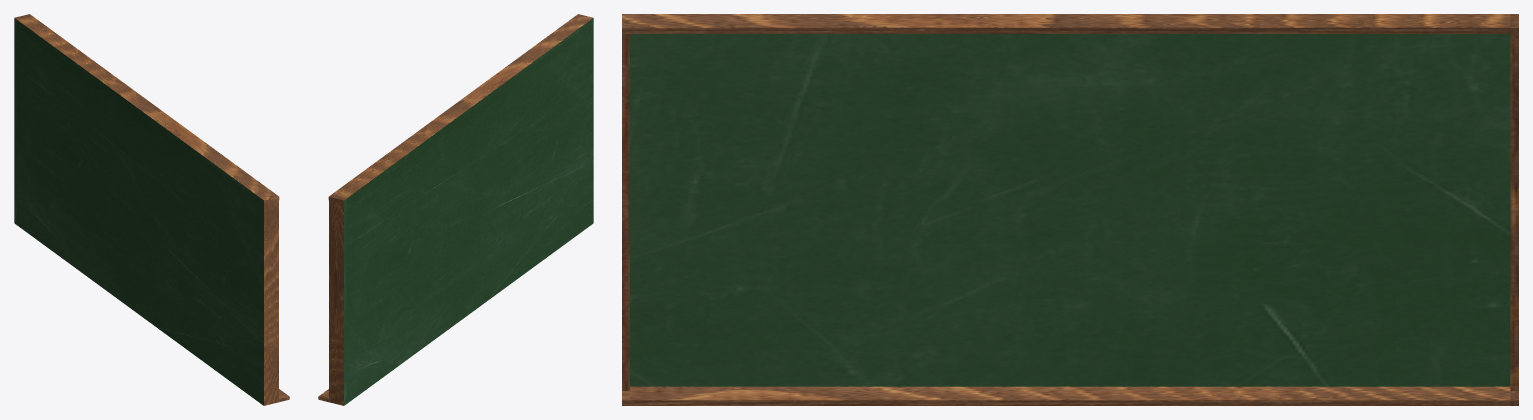
The model's file is ChalkBoard.glb.
3 renders of one model, left to right at view 1: azimuth 30°, elevation 25°; view 2: azimuth 150°, elevation 25°; view 3: azimuth 270°, elevation 25°, orthographic. The views are drawn at different scales.
Parts seen in each view (by area): view 1: Board, WoodenBoarder; view 2: Board, WoodenBoarder; view 3: Board, WoodenBoarder.
Part boxes in pixels (x1,y1,x2,y2): Board: (14,18,263,405); WoodenBoarder: (14,14,289,405); Board: (344,18,593,405); WoodenBoarder: (318,14,593,405); Board: (630,34,1510,386); WoodenBoarder: (622,14,1518,405).
Size of the model in its own units: 0.435 by 3.31 by 7.29.
2 materials, 2 textured.
